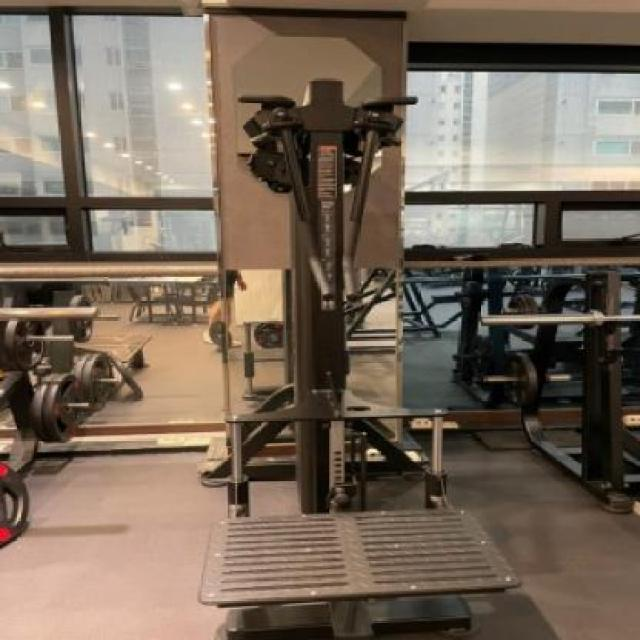lateral raises machine: (198, 75, 454, 640)
